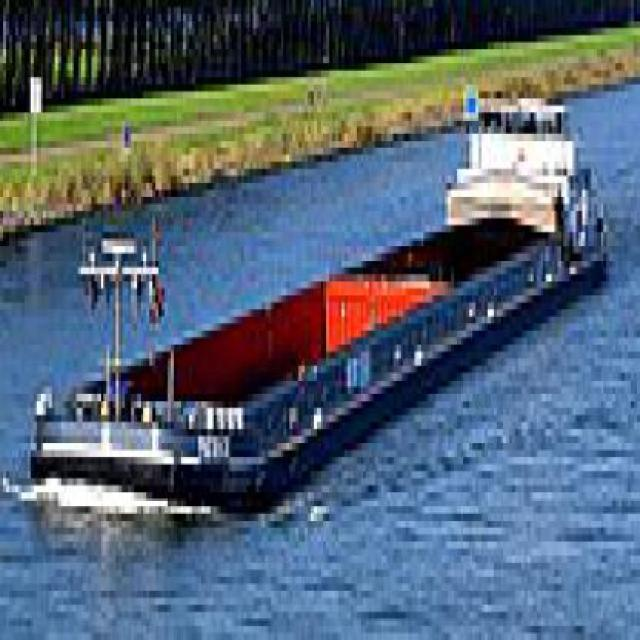container: (25, 64, 617, 536)
